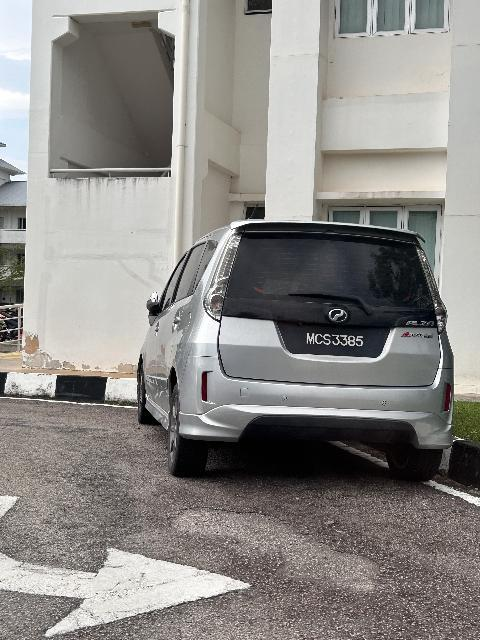License_Plate: (285, 325, 386, 357)
MCS3385: (285, 325, 386, 357)
car: (138, 219, 460, 484)
